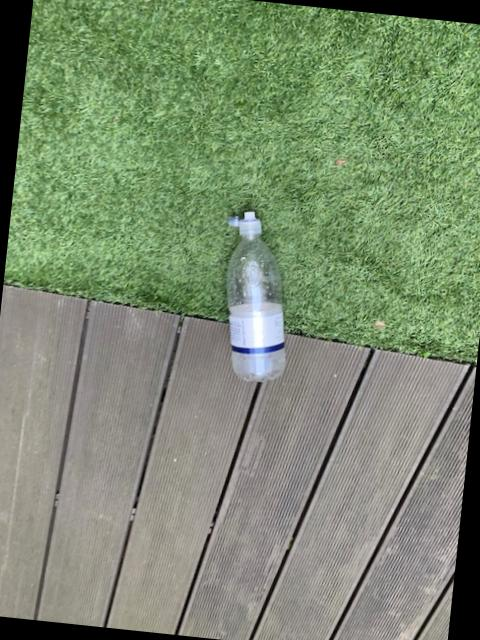plastic: (228, 212, 286, 382)
